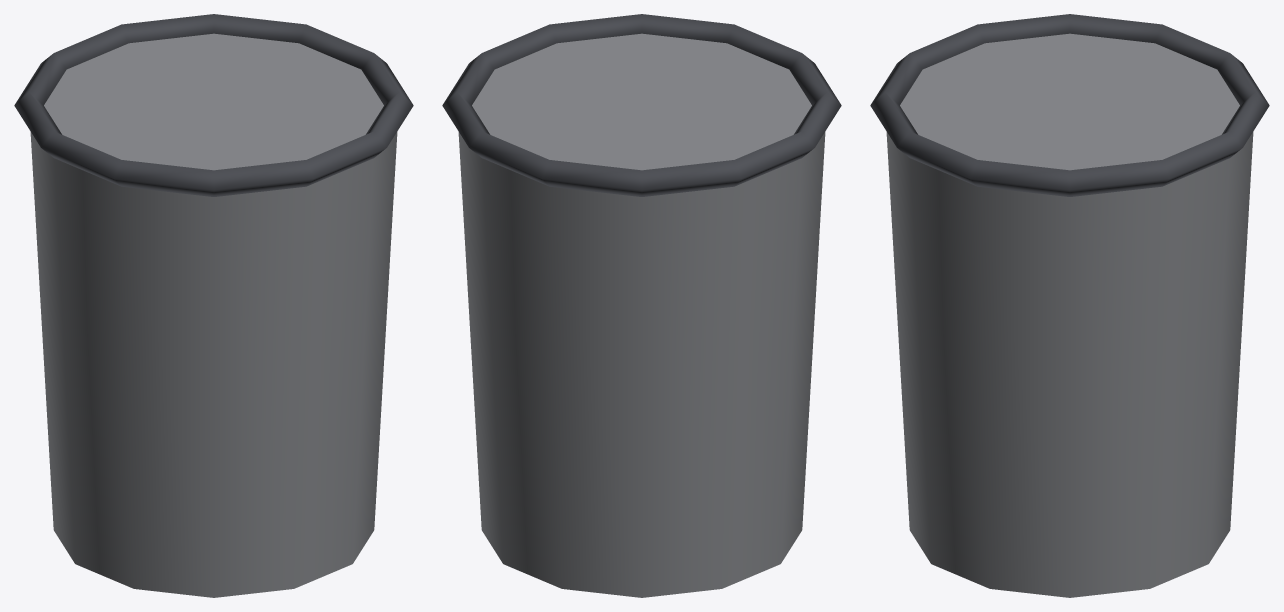
The model's file is trash_bin.glb.
The picture shows the model from 3 angles, left to right: view 1: azimuth 30°, elevation 25°; view 2: azimuth 150°, elevation 25°; view 3: azimuth 270°, elevation 25°; orthographic projection.
Parts seen in each view (by area): view 1: trash_bin; view 2: trash_bin; view 3: trash_bin.
Boxes of the visible parts, x1,y1,x2,y2 form: trash_bin: [14, 14, 413, 597]; trash_bin: [442, 14, 841, 597]; trash_bin: [870, 14, 1269, 597].
Size of the model in its own units: 0.324 by 0.392 by 0.324.
Materials: 1 (1 with a texture image).
